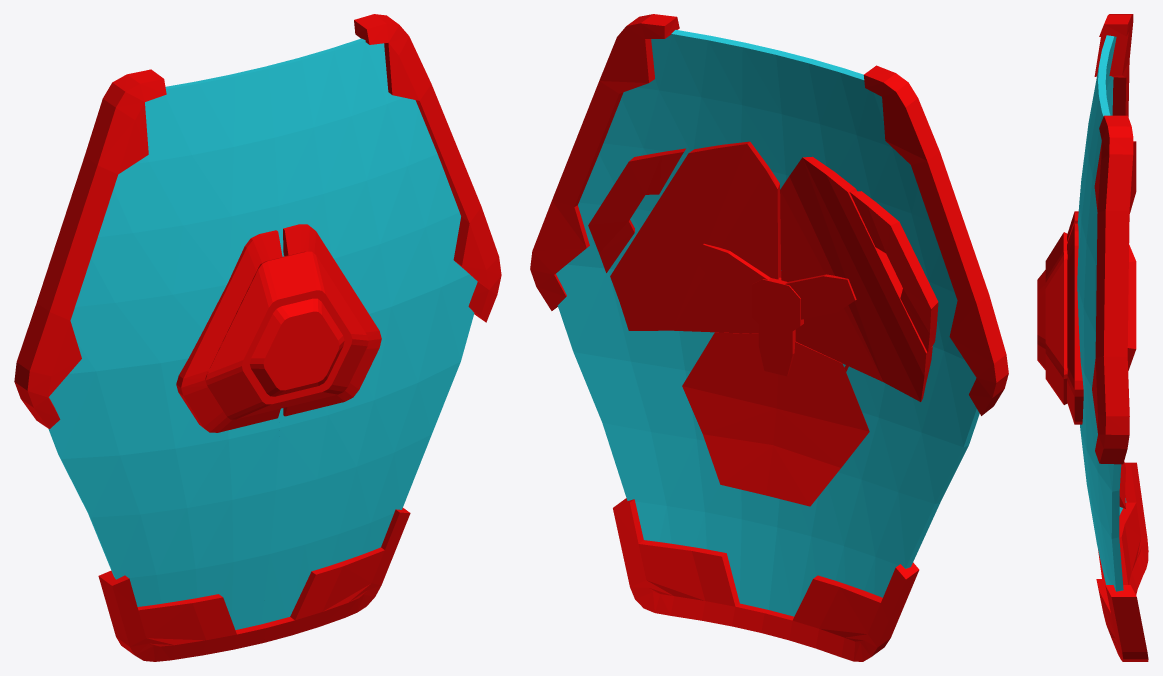
Rendered from BossShield.fbx.
The picture shows the model from 3 angles, left to right: view 1: azimuth 30°, elevation 25°; view 2: azimuth 150°, elevation 25°; view 3: azimuth 270°, elevation 25°; orthographic projection. The views are drawn at different scales.
Parts seen in each view (by area): view 1: SM_Shield.mo; view 2: SM_Shield.mo; view 3: SM_Shield.mo.
Part boxes in pixels (x1,y1,x2,y2): SM_Shield.mo: (14,14,501,661); SM_Shield.mo: (530,14,1008,661); SM_Shield.mo: (1037,14,1148,661).
Bounding box in the file's own units: 192 × 229 × 42.25.
